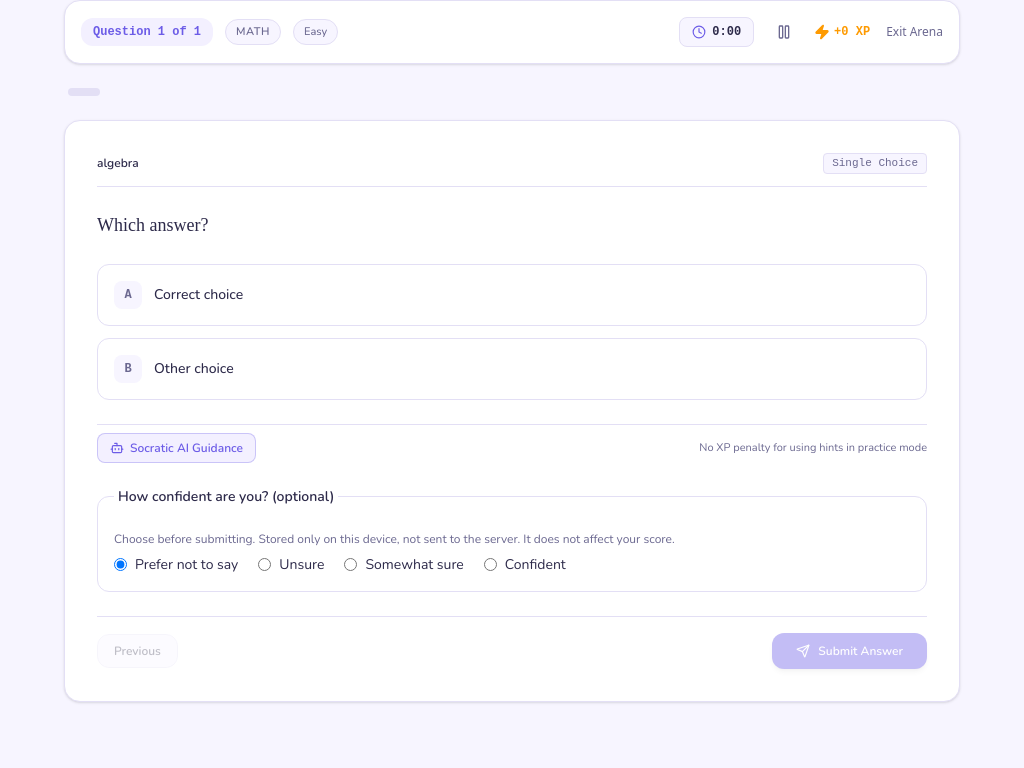
practice XP display › does not apply a delayed answer to a different signed-in account
The width and height of the screenshot is (1024, 768).
Click the button "A Correct choice": (199, 294) [97, 264, 927, 326]
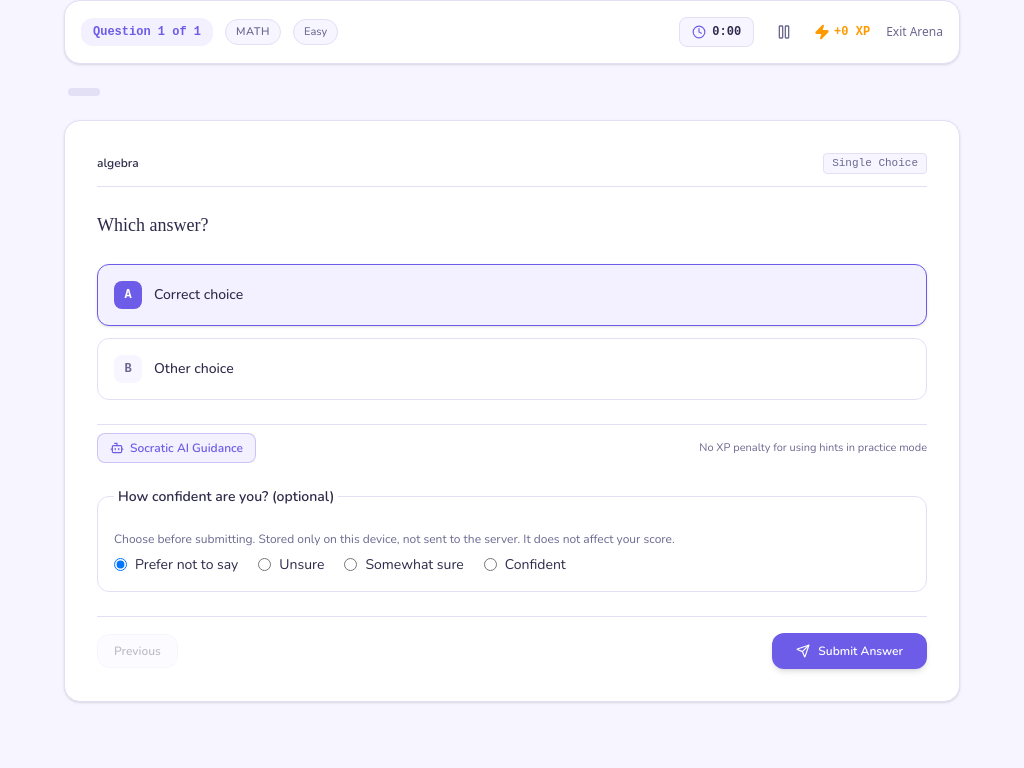
Click the button "Submit Answer": (850, 651) [772, 633, 927, 669]
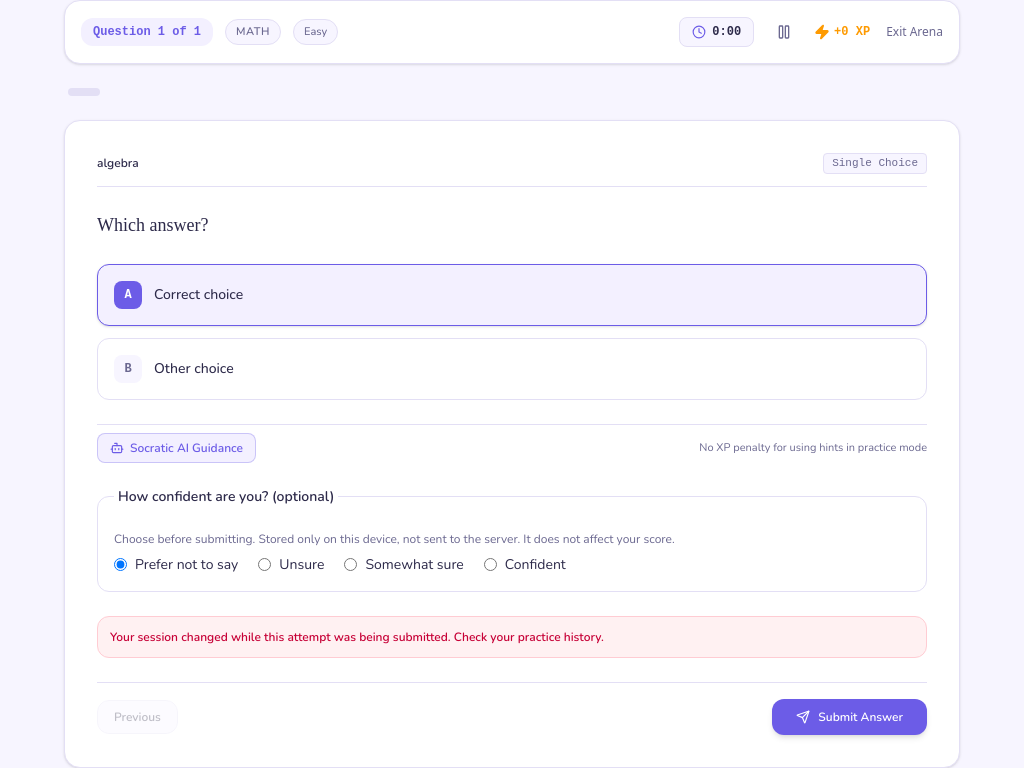
Check: the text "session changed" is shown, box [110, 629, 604, 645]
